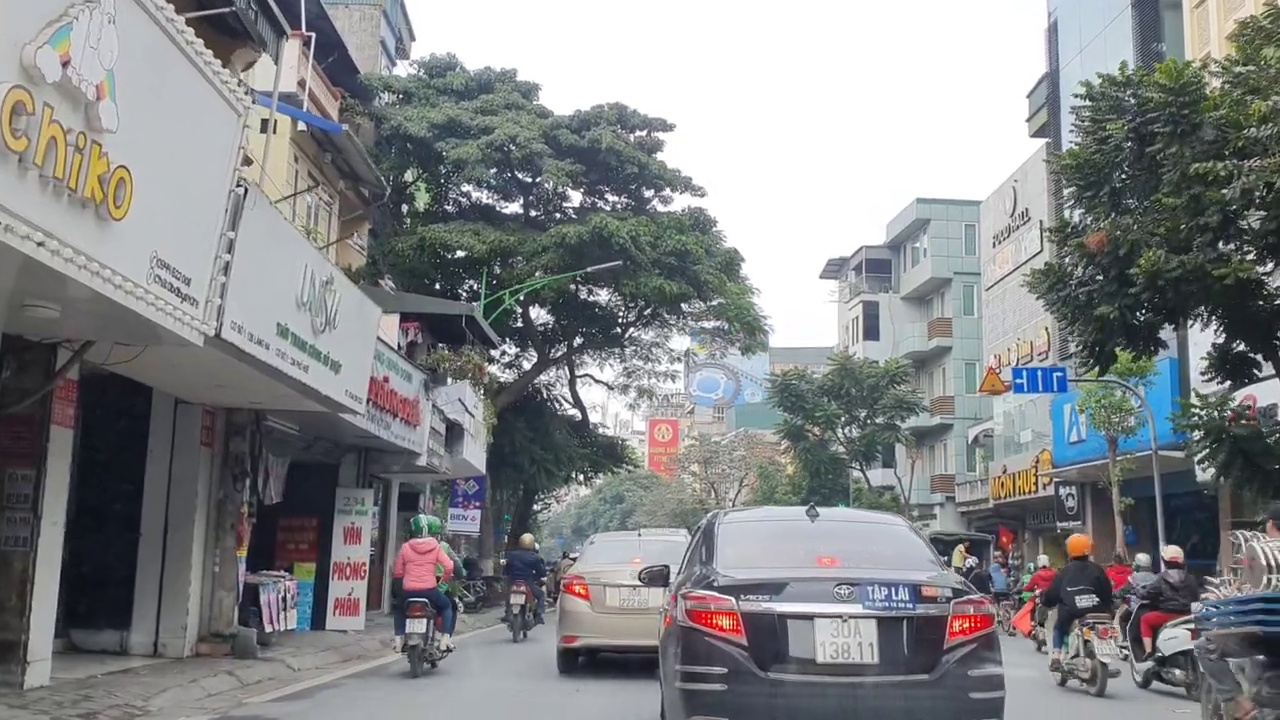person: (622, 582, 650, 609), (400, 617, 426, 633), (508, 591, 525, 603)
